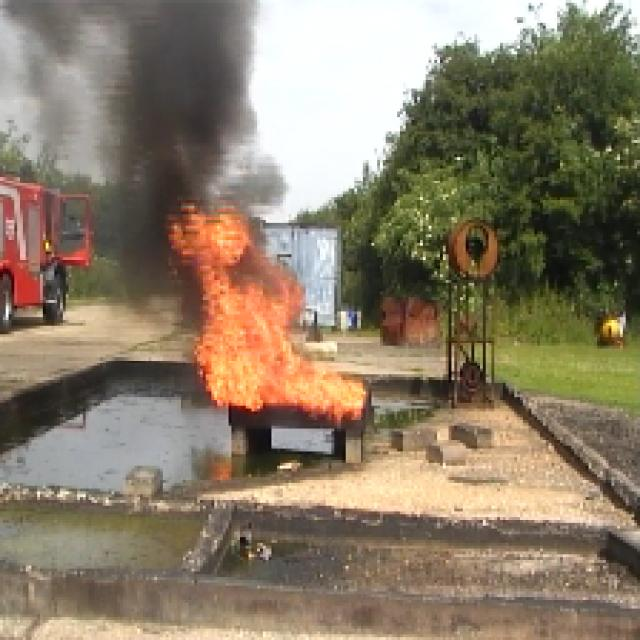fire: (180, 214, 360, 418)
smoke: (134, 12, 242, 206)
